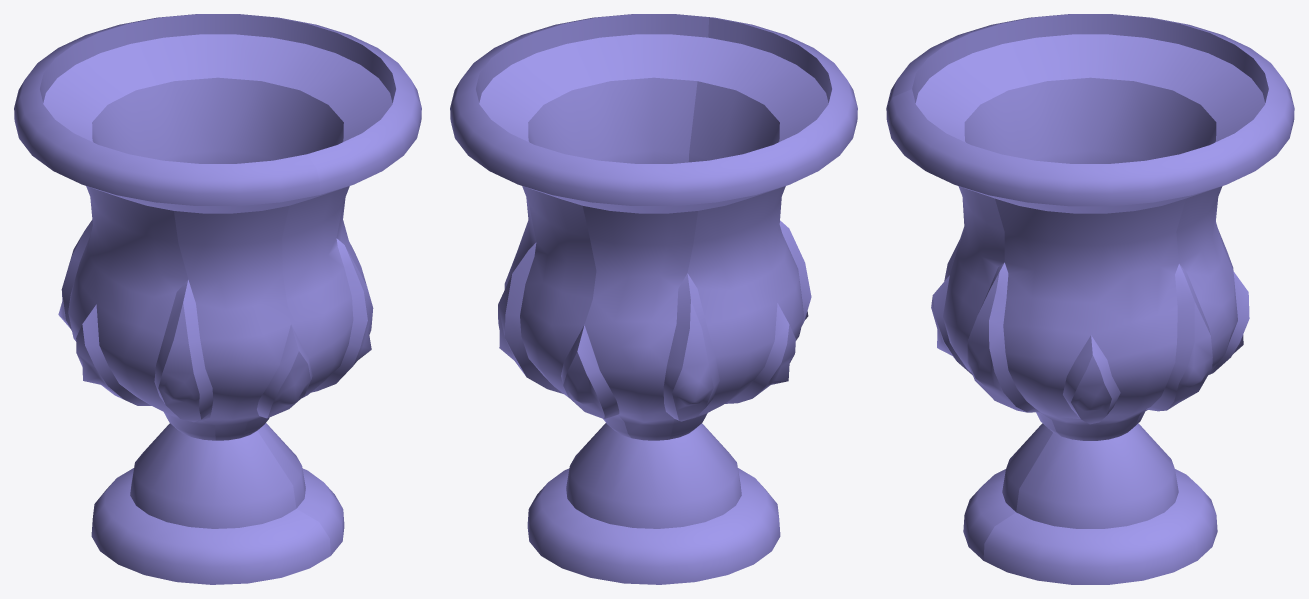
File: SM_Planter_Urn.fbx
3 renders of one model, left to right at view 1: azimuth 30°, elevation 25°; view 2: azimuth 150°, elevation 25°; view 3: azimuth 270°, elevation 25°, orthographic.
Visible parts, largest first — view 1: SM_Planter_Urn; view 2: SM_Planter_Urn; view 3: SM_Planter_Urn.
Boxes of the visible parts, x1,y1,x2,y2 form: SM_Planter_Urn: (14,14,421,584); SM_Planter_Urn: (450,14,857,584); SM_Planter_Urn: (886,14,1294,584).
Bounding box in the file's own units: 0.4401 × 0.5297 × 0.4426.
